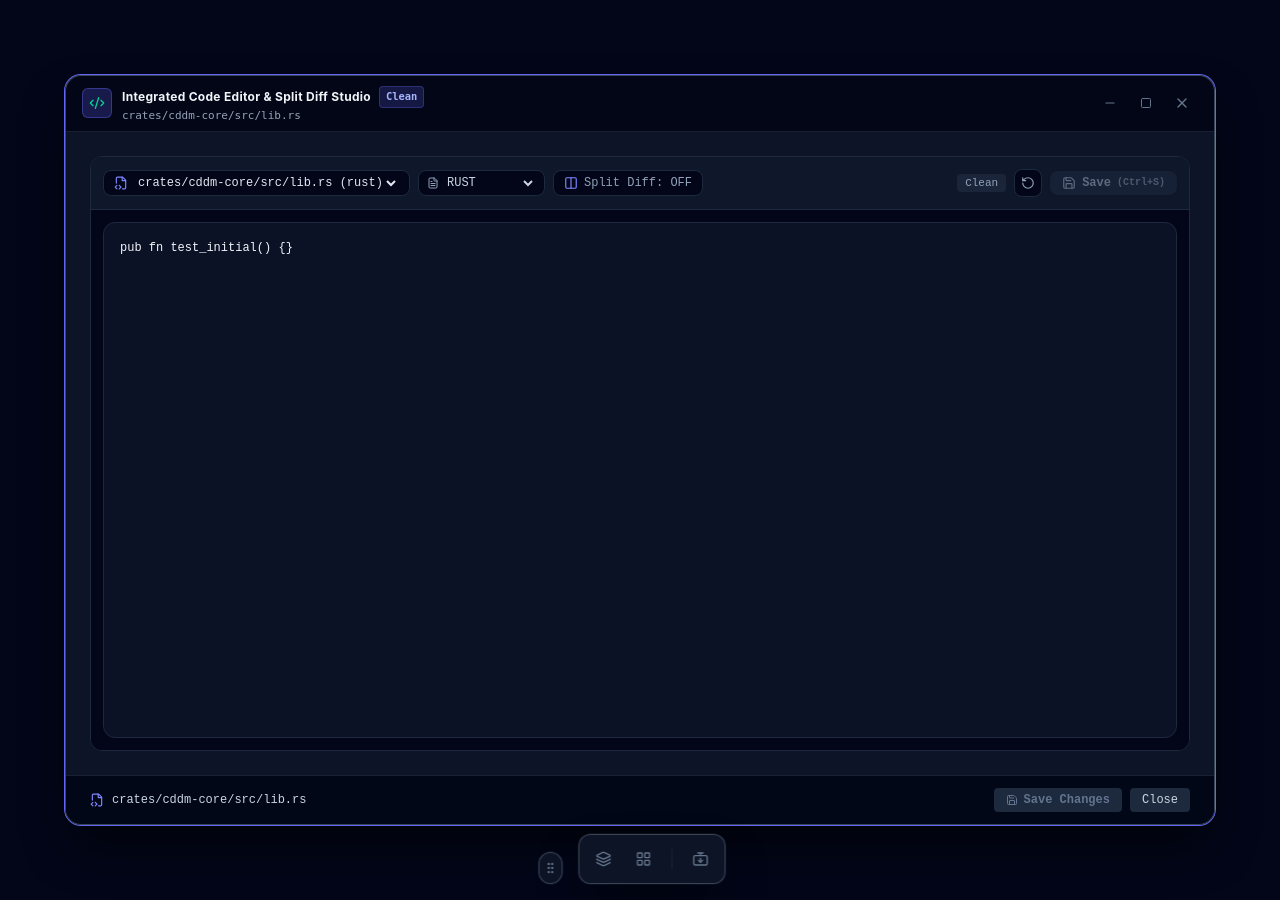
Test: CodeEditorModal Component › should toggle Split Diff mode
Click the button titled "Toggle Split Diff Mode".
click(628, 183)  # box [553, 170, 703, 196]
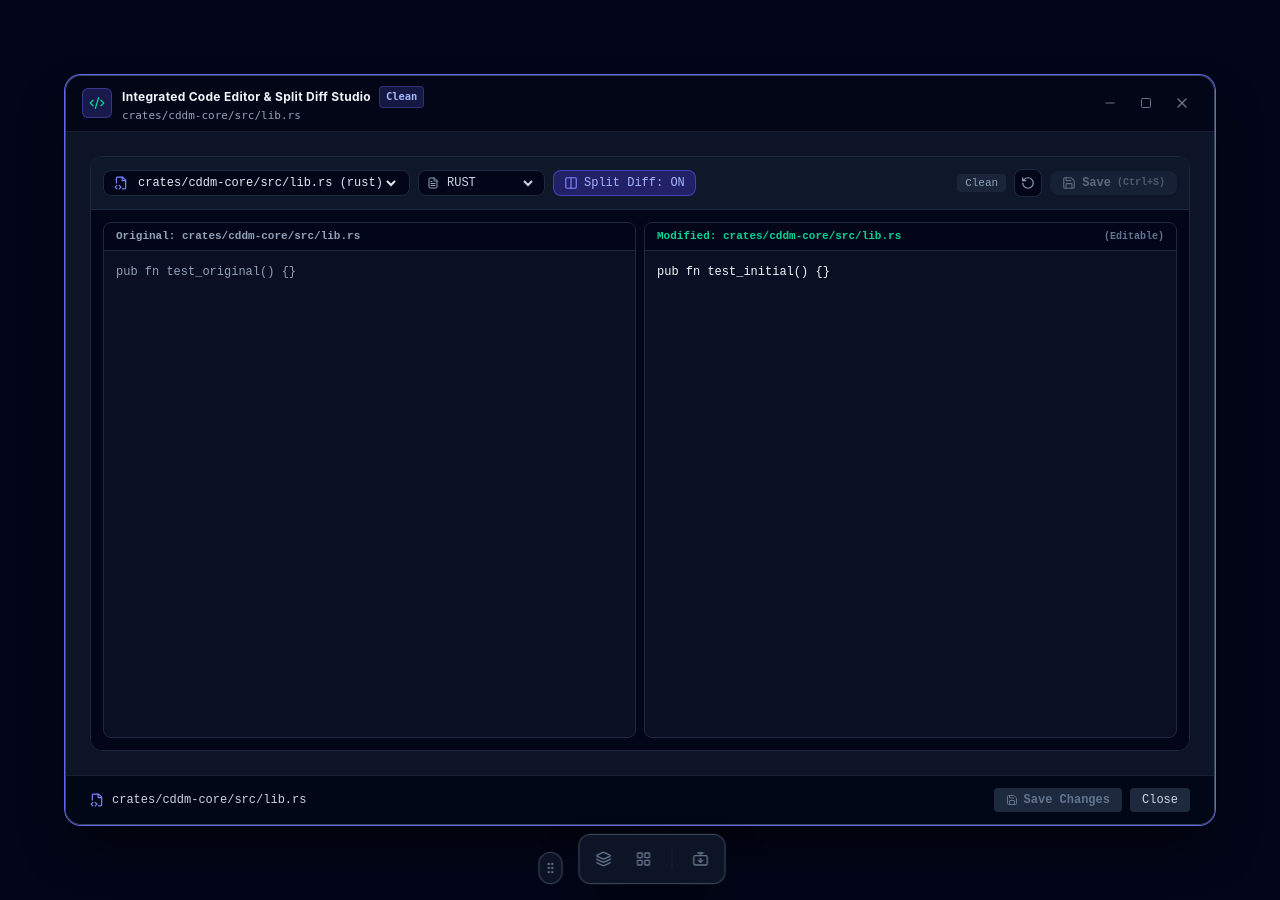
Expected: the element with test id "monaco-editor-diff" is shown, [91, 210, 1189, 750]
Expected: the text box named "Original file content" is shown, [104, 250, 635, 737]
Expected: the text box named "Modified file content" is shown, [645, 250, 1176, 737]
